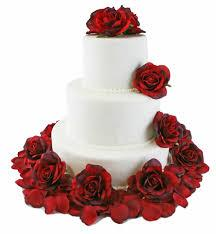Rose: (129, 157, 176, 207), (71, 162, 116, 212), (85, 7, 143, 39), (132, 59, 174, 103), (154, 108, 186, 152), (31, 152, 67, 190), (181, 133, 206, 175), (23, 132, 48, 161)
